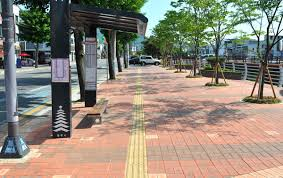guide_blocks: (127, 132, 148, 178), (131, 90, 144, 132), (134, 68, 141, 90)
